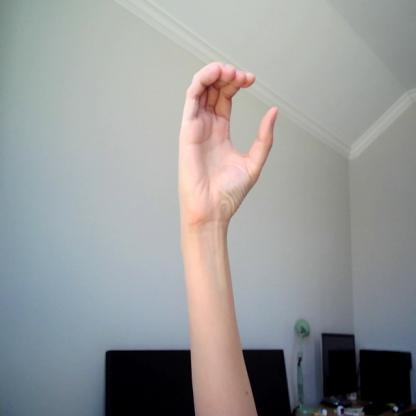C: (178, 59, 281, 212)
